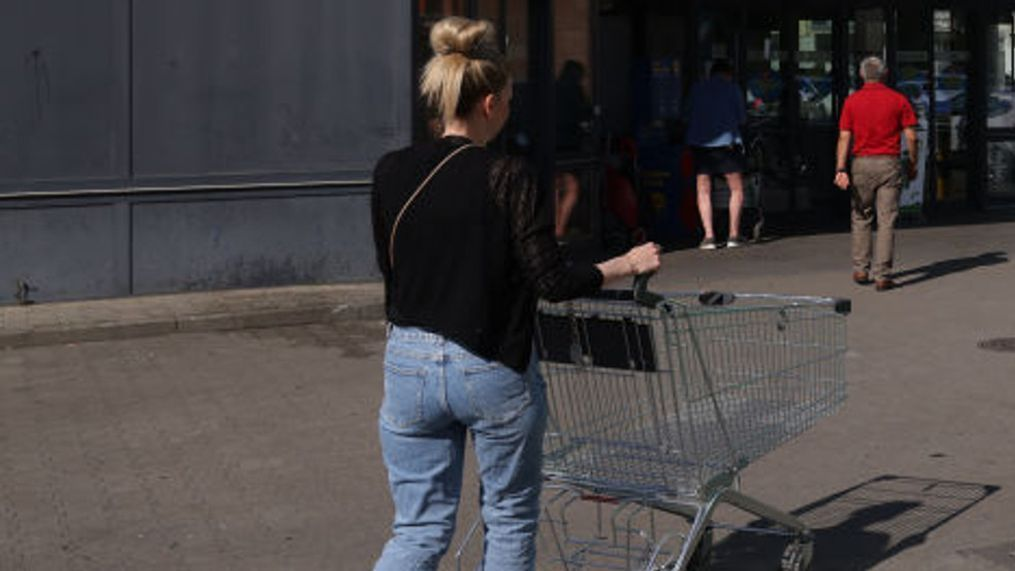Person: (345, 16, 592, 571), (822, 52, 923, 293)
shopping_cart: (533, 288, 872, 571)
